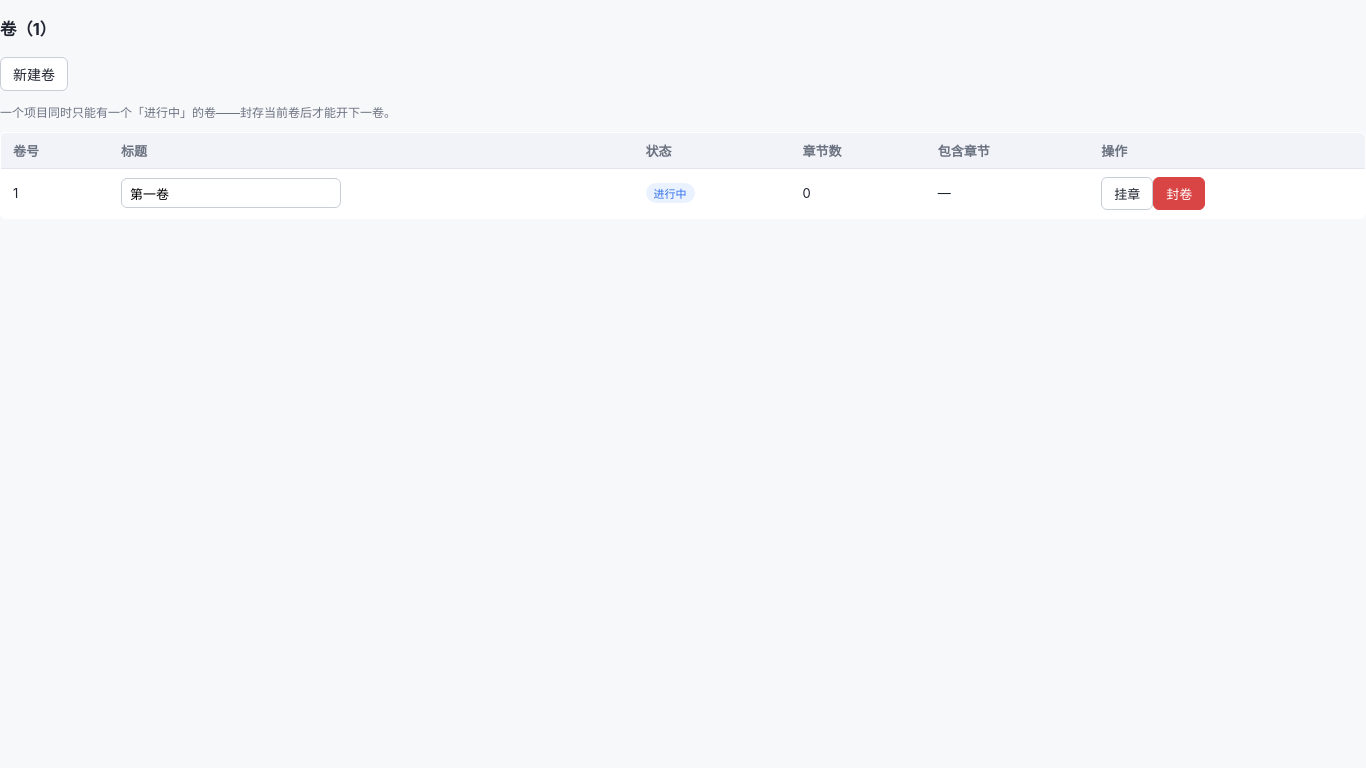
VolumesTab › 点「封卷」⇒ 先弹 danger 确认，此时未发请求
The image size is (1366, 768).
Click the button with test id "volume-seal-vol_1".
click(1179, 193)  # box 1153,177 -> 1205,210
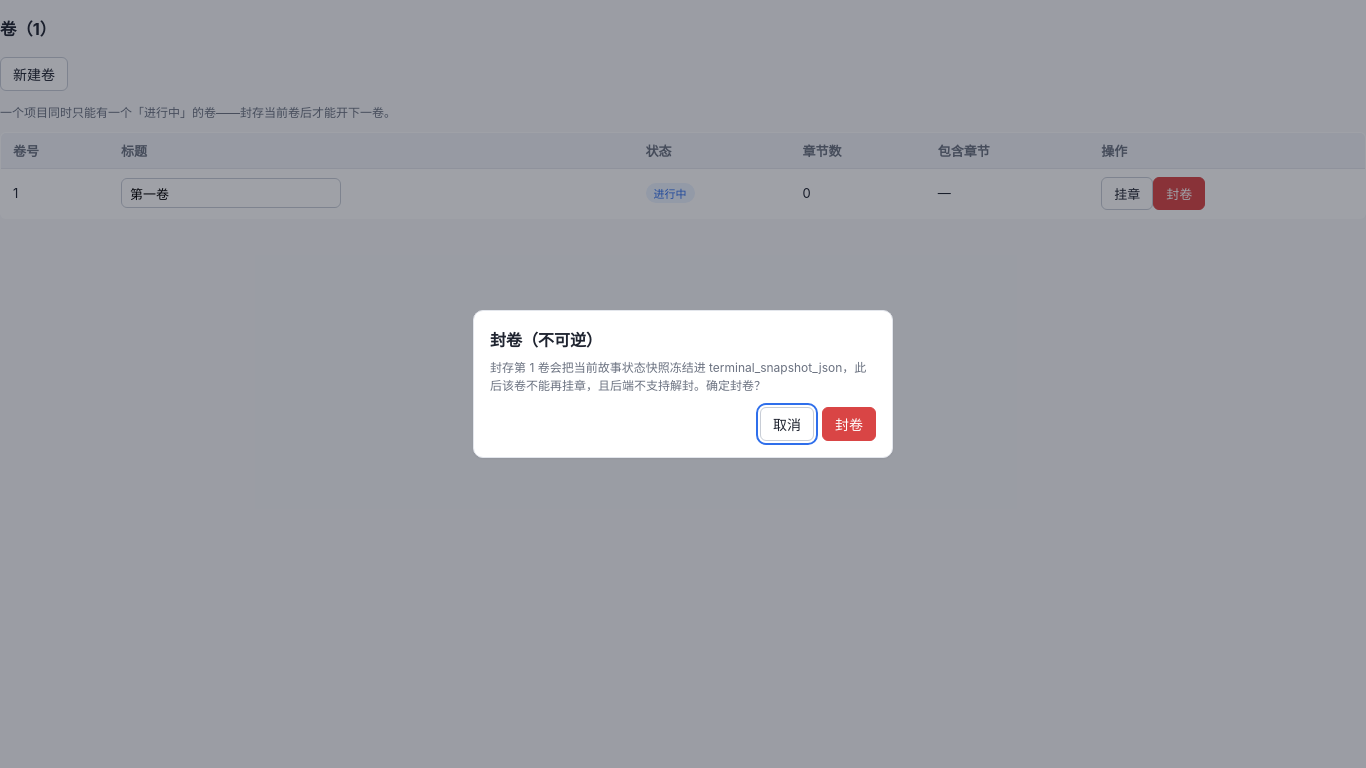
Expected: the text "封卷（不可逆）" is shown, 490,330 -> 602,350
